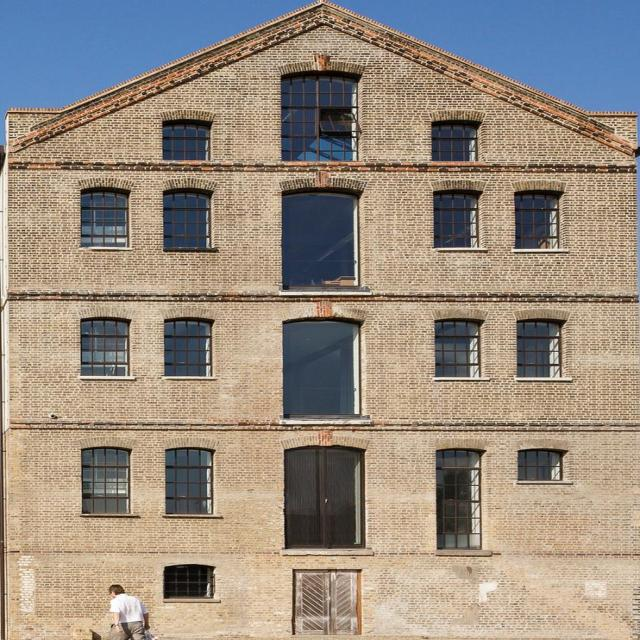door: (292, 569, 365, 639)
window: (283, 316, 358, 420), (282, 184, 357, 287), (284, 446, 359, 549), (286, 70, 358, 158), (434, 448, 485, 551), (83, 446, 130, 516), (165, 449, 212, 514), (435, 315, 484, 377), (79, 314, 129, 374), (515, 186, 560, 251), (433, 187, 481, 246), (80, 185, 127, 245), (165, 188, 210, 249), (165, 317, 210, 375), (519, 318, 561, 378), (160, 117, 213, 162), (430, 115, 474, 161), (520, 448, 564, 481), (166, 568, 214, 598)
